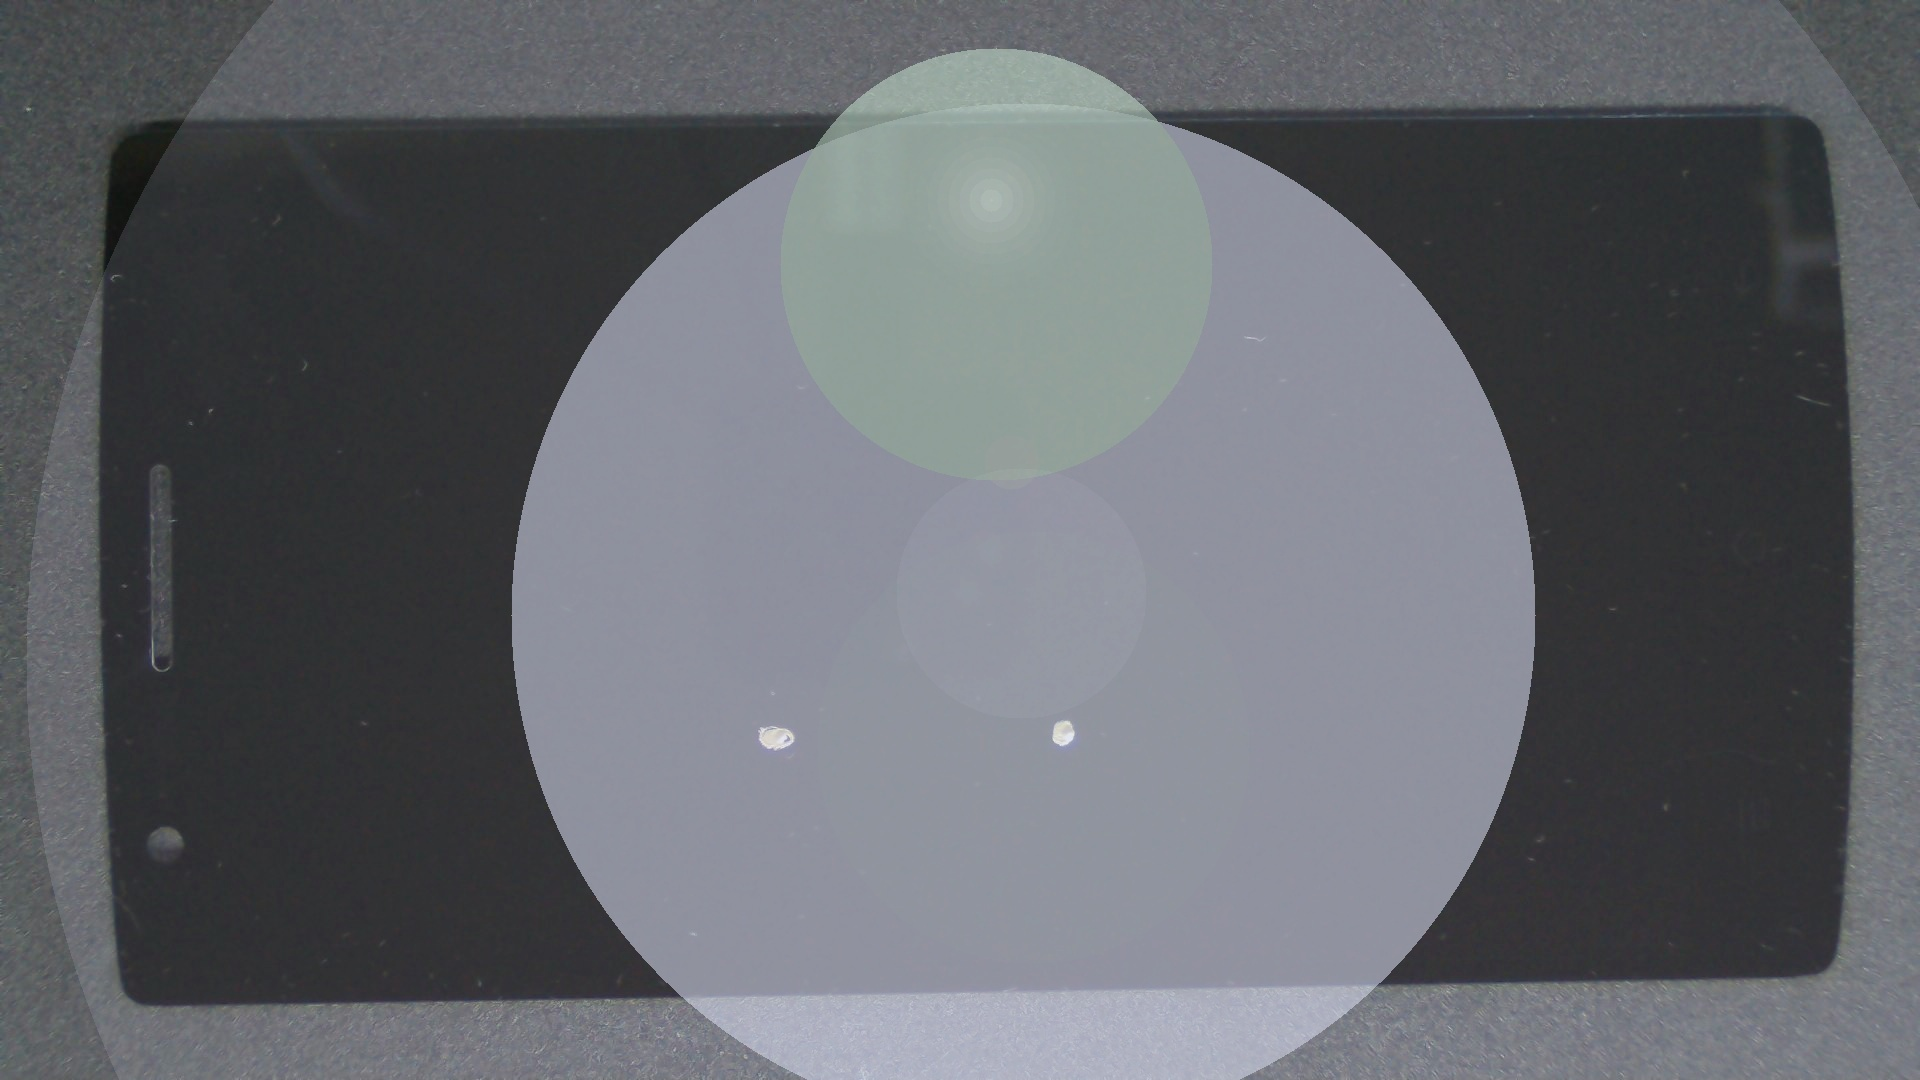oil: (533, 359, 1596, 1077), (386, 361, 1159, 1080)
